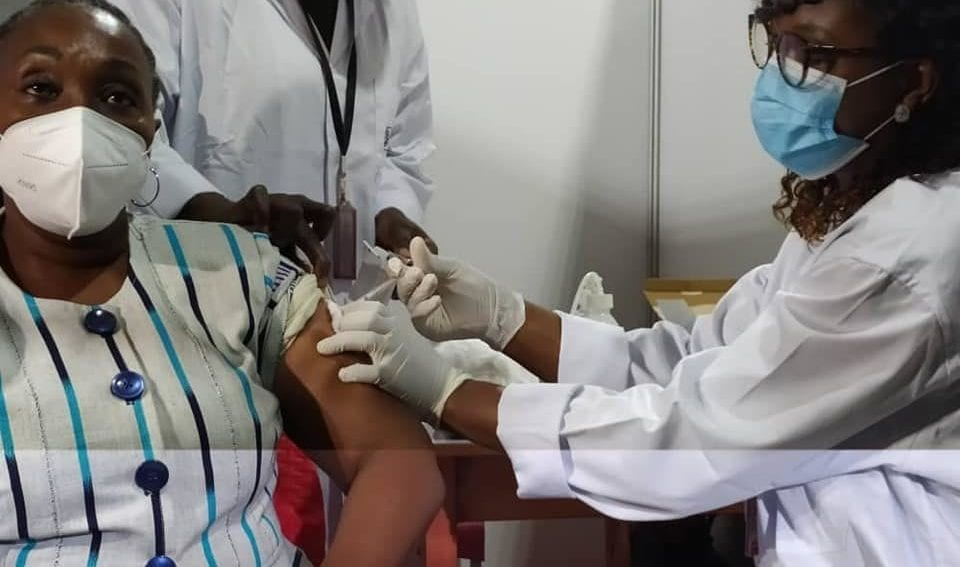with_mask: (2, 43, 138, 231), (759, 11, 882, 159)
